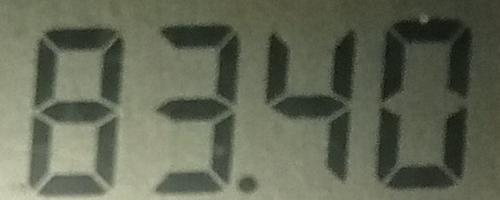.: (235, 175, 257, 195)
